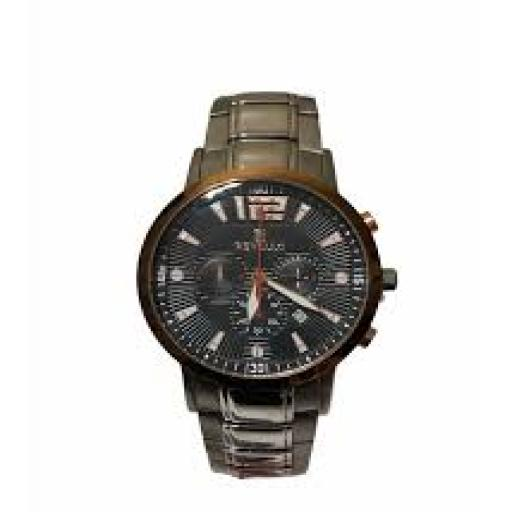KolSaati: (88, 54, 424, 497)
